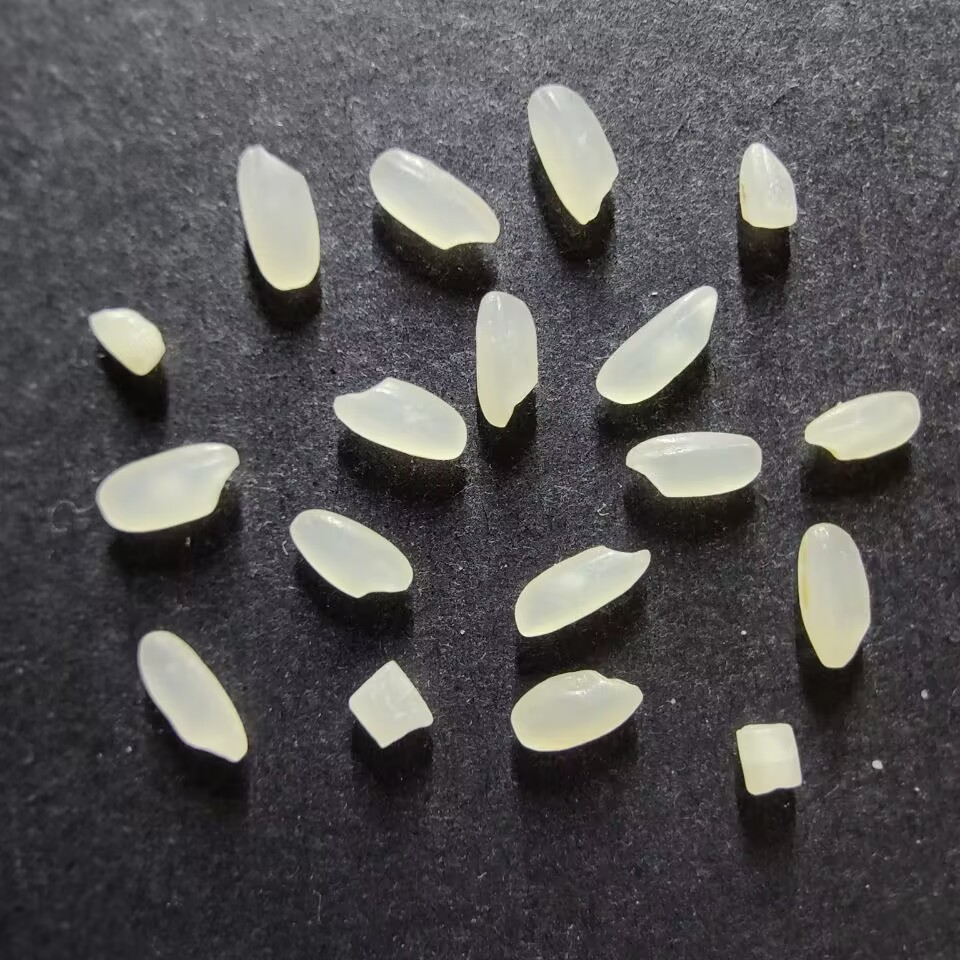broken: (347, 659, 432, 748), (88, 307, 165, 376), (738, 142, 797, 229), (735, 722, 802, 795)
rice: (137, 629, 247, 762), (595, 285, 717, 404), (368, 149, 500, 250), (526, 84, 618, 225), (514, 544, 651, 637), (96, 443, 239, 532), (236, 145, 320, 291), (332, 376, 467, 460), (289, 509, 413, 598), (796, 522, 871, 668), (510, 669, 642, 751), (624, 431, 762, 497), (474, 291, 539, 428), (803, 390, 921, 461)
